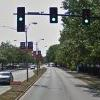Traffic light: (10, 5, 95, 36)
